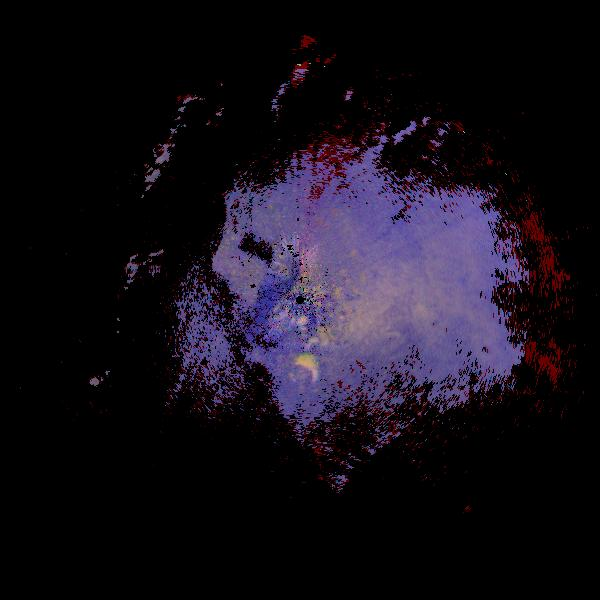roost: (279, 350, 327, 398)
